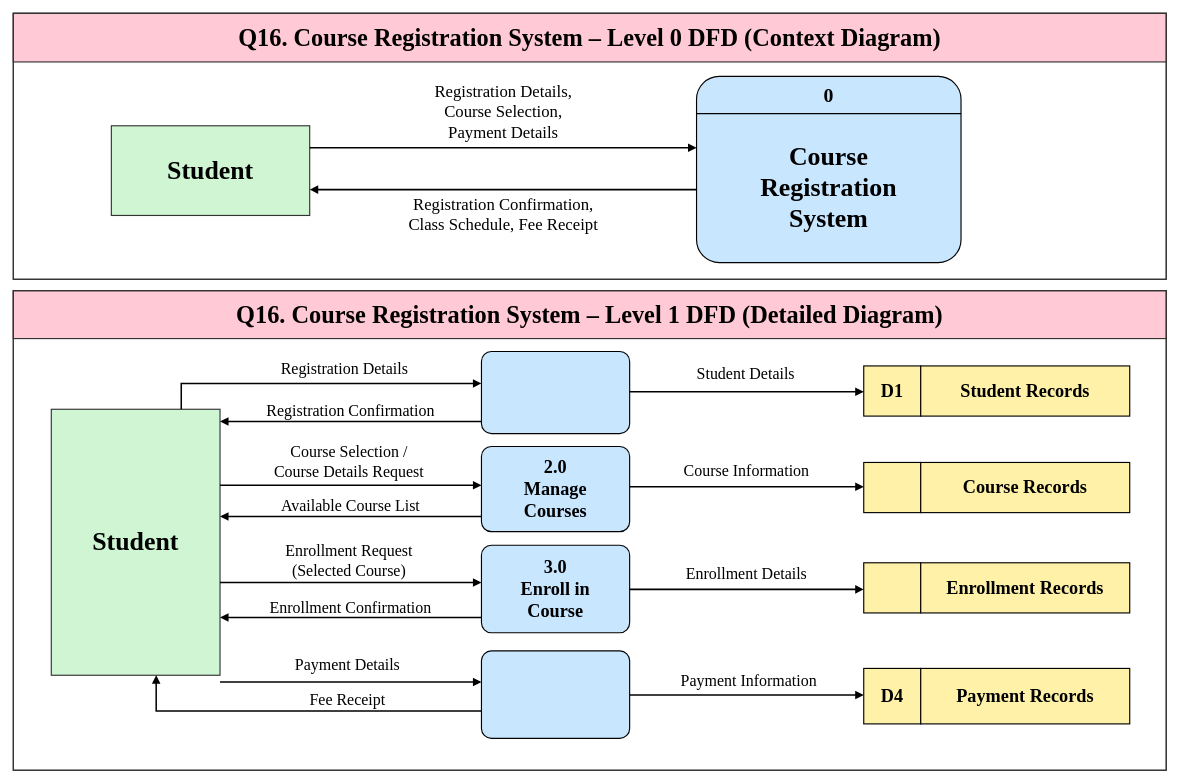
Some shapes in this 1180 by 784 pixel diagram are drawn without their labels. Each missing label, with the centre of its shape:
1.0 Register Student: (555,392)
4.0 Process Fee Payment: (555,694)
D2: (892,487)
D3: (892,587)
